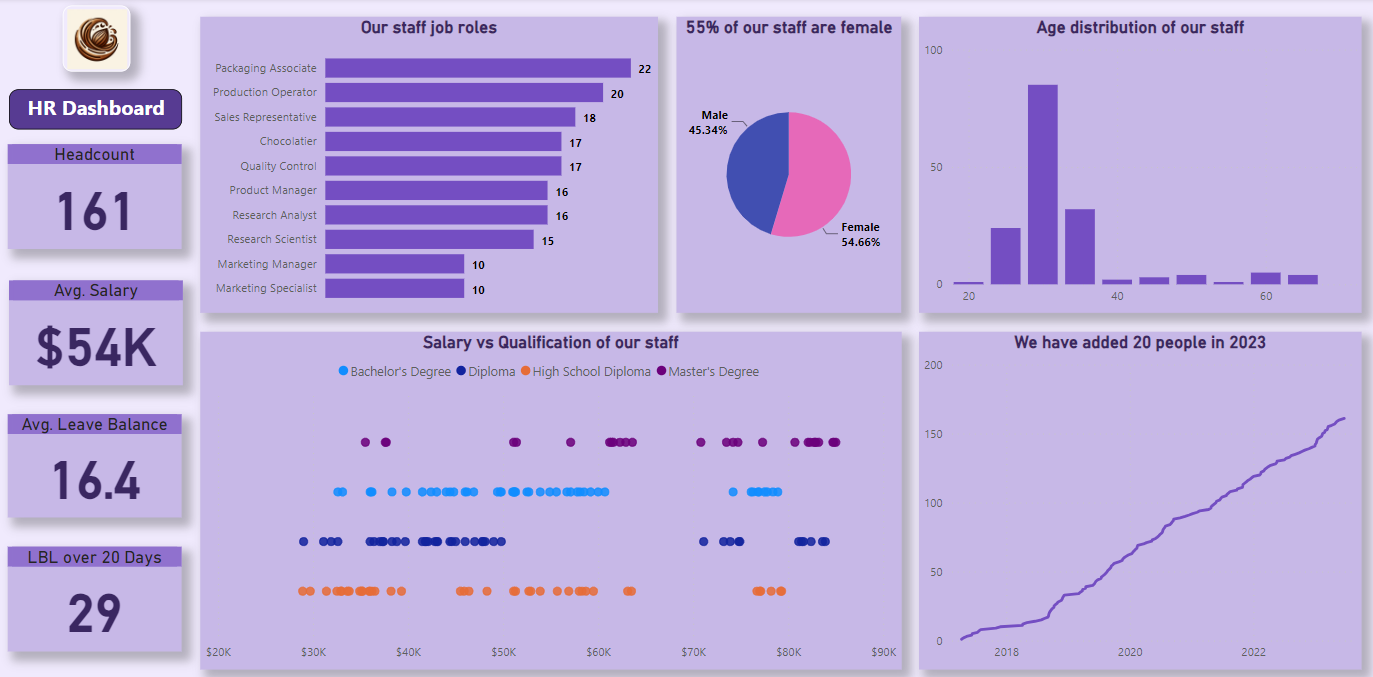

Layout of this report page (visuals, bound fields, positions):
{"tool":"powerbi","page":{"name":"Dashboard","canvas":[1450,720],"ordinal":0},"visuals":[{"type":"card","title":"Headcount","fields":{"Values":["staff.Headcount"]},"box":[9.8,154,183.4,110],"z":0},{"type":"card","title":"Avg. Salary","fields":{"Values":["staff.Avg Salary"]},"box":[11,297,183.4,110],"z":1000},{"type":"card","title":"Avg. Leave Balance","fields":{"Values":["staff.Average Leave Balance"]},"box":[9.8,438.8,183.4,108.8],"z":2000},{"type":"card","title":"LBL over 20 Days","fields":{"Values":["staff.LBL Over 20 Days"]},"box":[9.8,578.2,183.4,110],"z":3000},{"type":"clusteredBarChart","title":"Our staff job roles","fields":{"Category":["staff.Job Title"],"Y":["staff.Headcount"]},"box":[212.1,19.8,482.1,312.2],"z":4000},{"type":"pieChart","title":"55% of our staff are female","fields":{"Category":["staff.Gender"],"Y":["staff.Headcount"]},"box":[713.9,19.8,237.1,312.2],"z":5000},{"type":"columnChart","title":"Age distribution of our staff","fields":{"Y":["staff.Headcount"],"Category":["staff.Age (bins)"]},"box":[969.5,19.8,466.3,312.2],"z":6000},{"type":"scatterChart","title":"Salary vs Qualification of our staff","fields":{"X":["staff.Salary"],"Y":["Qual.Qualification ID"],"Series":["Qual.Qualification"]},"box":[212.1,351.7,739,355.7],"z":7000},{"type":"lineChart","title":"We have added 20 people in 2023","fields":{"Y":["staff.Cumulative Headcount"],"Category":["staff.Date of Join"]},"box":[969.5,351.7,466.3,355.7],"z":8000},{"type":"textbox","box":[11,96.6,182.1,42.8],"z":9000},{"type":"image","box":[67.2,8.6,70.9,69.7],"z":10000}]}

Visuals, with their boxes in screenshot pixels (x1, y1, x2, y2), scaled from the page's 1450x720 canvas onto the 1373x677 screenshot:
"Headcount" card: <bbox>9, 145, 183, 248</bbox>
"Avg. Salary" card: <bbox>10, 279, 184, 383</bbox>
"Avg. Leave Balance" card: <bbox>9, 413, 183, 515</bbox>
"LBL over 20 Days" card: <bbox>9, 544, 183, 647</bbox>
"Our staff job roles" clusteredBarChart: <bbox>201, 19, 657, 312</bbox>
"55% of our staff are female" pieChart: <bbox>676, 19, 900, 312</bbox>
"Age distribution of our staff" columnChart: <bbox>918, 19, 1360, 312</bbox>
"Salary vs Qualification of our staff" scatterChart: <bbox>201, 331, 901, 665</bbox>
"We have added 20 people in 2023" lineChart: <bbox>918, 331, 1360, 665</bbox>
textbox: <bbox>10, 91, 183, 131</bbox>
image: <bbox>64, 8, 131, 74</bbox>
